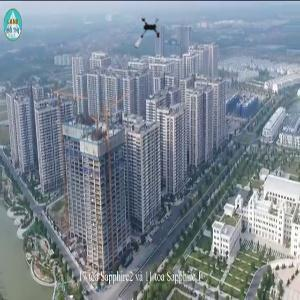drone: (131, 15, 170, 54)
